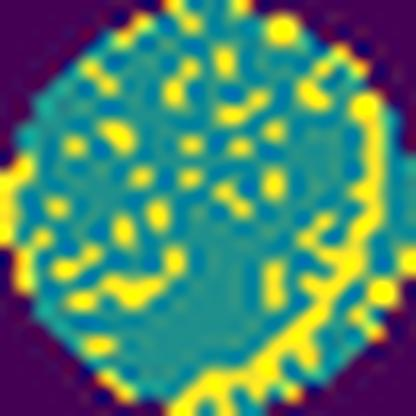Scratch: (162, 88, 392, 416)
